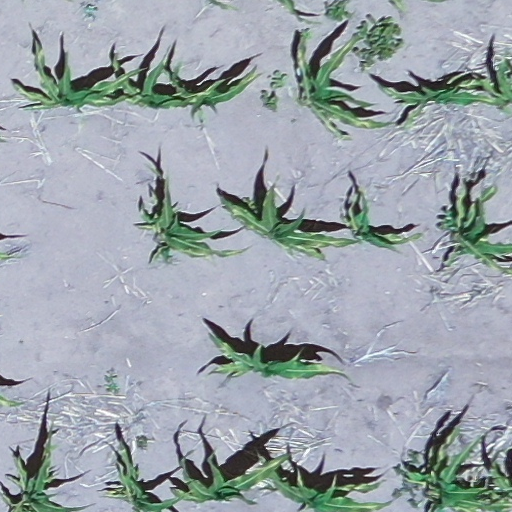planta: (217, 173, 361, 259), (132, 163, 250, 265), (297, 23, 396, 139), (13, 39, 148, 110), (169, 449, 300, 504), (205, 332, 351, 380), (381, 73, 506, 126), (163, 60, 264, 122), (342, 183, 428, 254), (110, 48, 194, 109)
